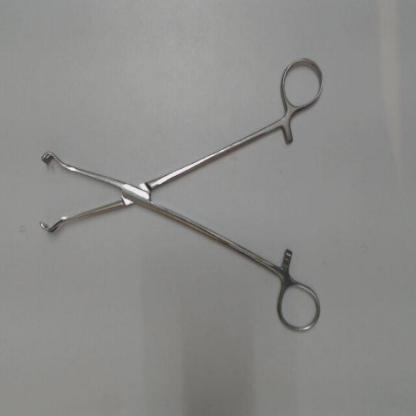8 Babcock Tissue Forceps: (36, 51, 327, 341)
